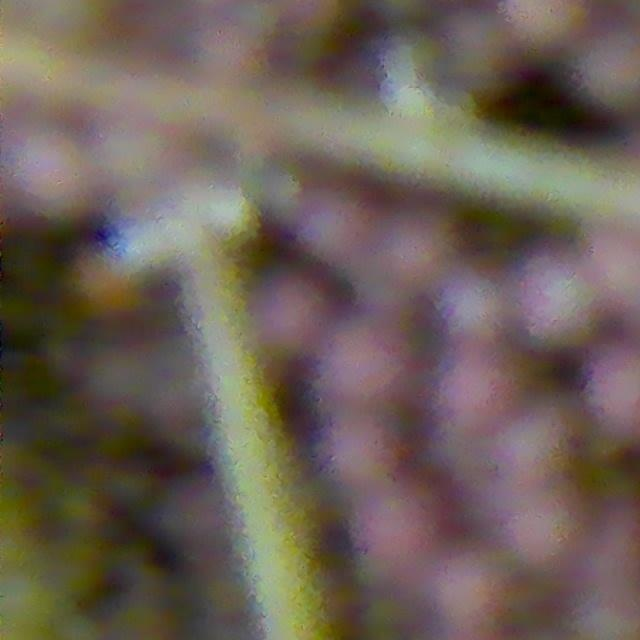SeaGrape: (357, 488, 464, 597), (313, 309, 408, 397), (371, 218, 459, 311), (318, 407, 406, 497), (501, 486, 578, 576), (287, 191, 373, 270), (431, 351, 515, 430), (250, 279, 324, 360), (420, 562, 501, 629), (585, 358, 640, 453), (448, 267, 515, 344), (525, 260, 588, 341), (585, 218, 640, 302), (278, 0, 348, 63)
